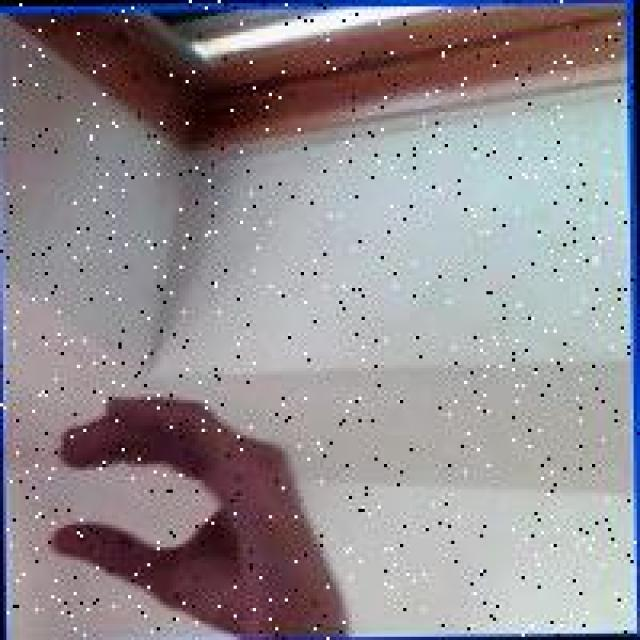C: (42, 384, 336, 627)
